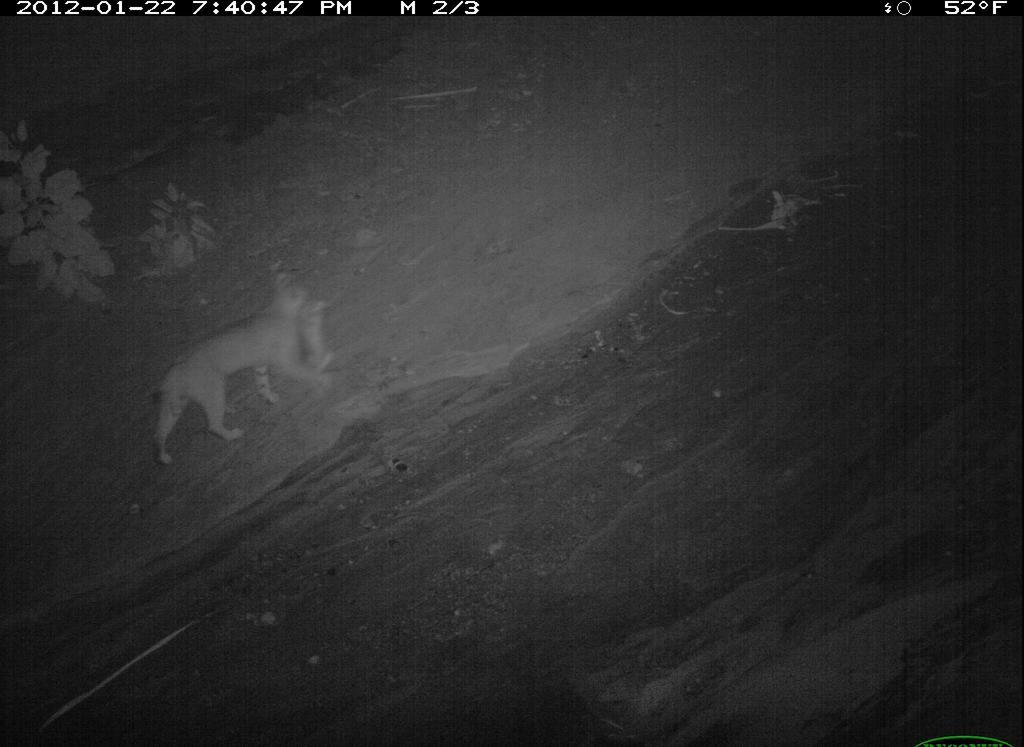bobcat: (290, 513, 682, 747)
rabbit: (583, 591, 680, 747)
